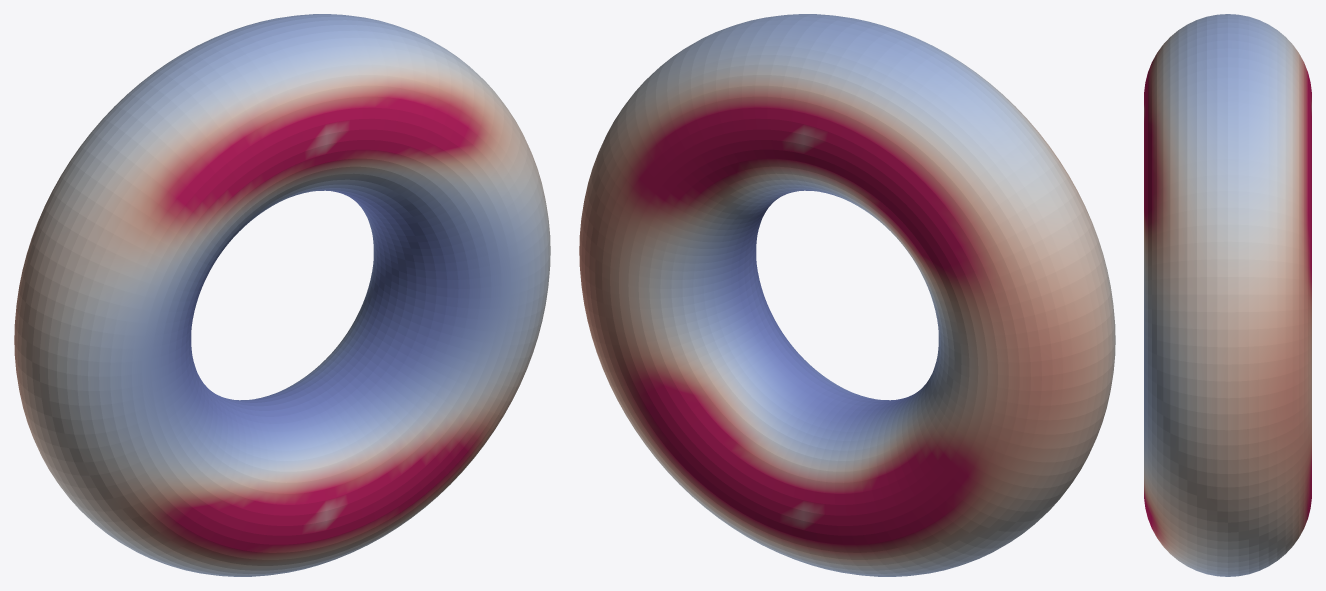
3 views of the same model, side by side, from view 1: azimuth 30°, elevation 25°; view 2: azimuth 150°, elevation 25°; view 3: azimuth 270°, elevation 25° (orthographic). The views are drawn at different scales.
Visible parts, largest first — view 1: world; view 2: world; view 3: world.
Boxes of the visible parts, x1,y1,x2,y2 form: world: (14, 14, 550, 576); world: (579, 14, 1115, 576); world: (1144, 14, 1311, 576).
Size of the model in its own units: 21.87 by 21.87 by 6.52.
